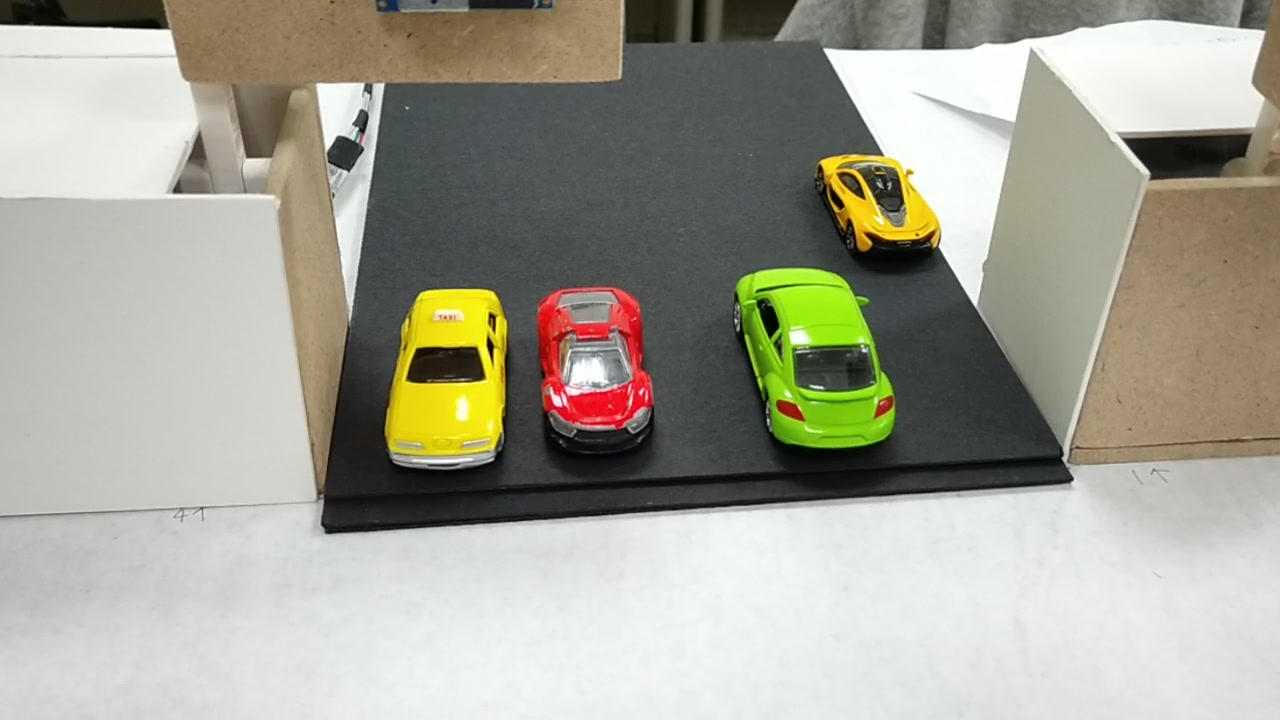car: (724, 273, 903, 456), (381, 286, 507, 469), (538, 287, 659, 455), (807, 147, 945, 266)
